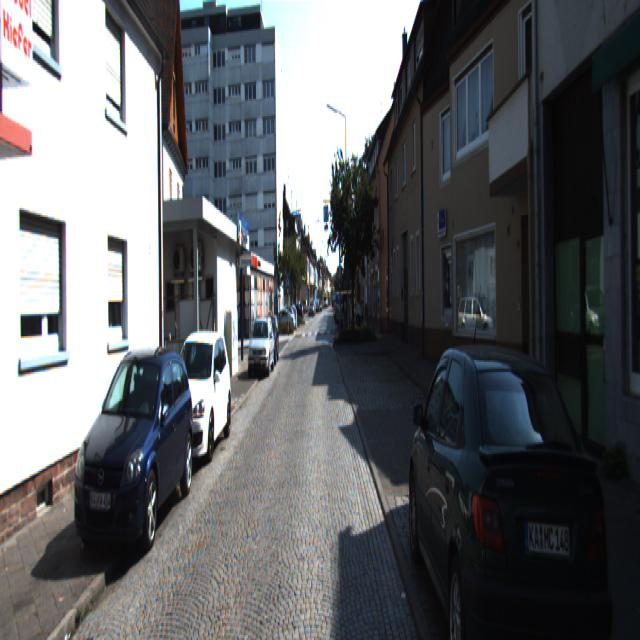Car: (404, 331, 630, 638), (68, 340, 196, 571), (160, 326, 232, 468), (246, 315, 274, 376)
